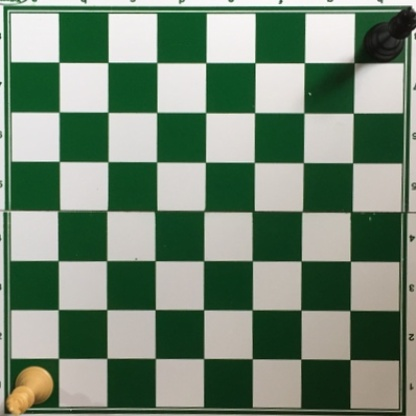black-king: (362, 7, 416, 64)
white-king: (5, 366, 57, 416)
